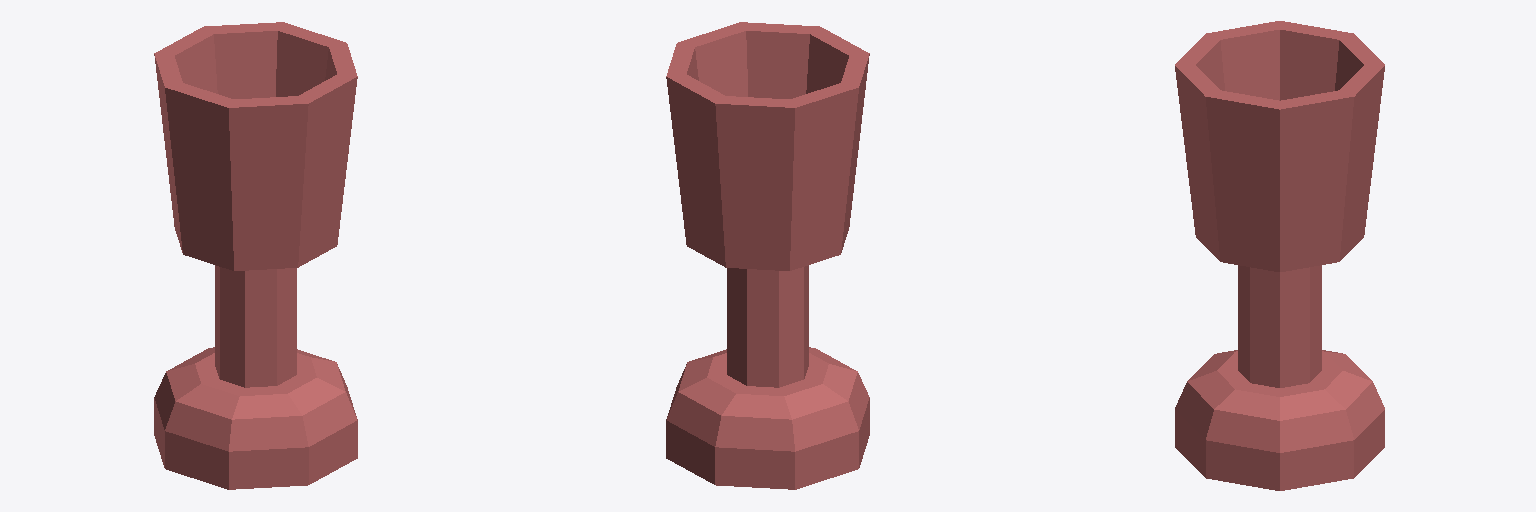
The picture shows the model from 3 angles: view 1: azimuth 30°, elevation 25°; view 2: azimuth 150°, elevation 25°; view 3: azimuth 270°, elevation 25°; orthographic projection.
Visible parts, largest first — view 1: Mesh_0035_Mesh_0035Mesh; view 2: Mesh_0035_Mesh_0035Mesh; view 3: Mesh_0035_Mesh_0035Mesh.
Part boxes in pixels (left/top/right/bottom): Mesh_0035_Mesh_0035Mesh: left=154, top=22, right=357, bottom=489; Mesh_0035_Mesh_0035Mesh: left=666, top=22, right=869, bottom=489; Mesh_0035_Mesh_0035Mesh: left=1175, top=21, right=1384, bottom=490.
Size of the model in its own units: 0.0762 by 0.1524 by 0.0762.
1 materials, 1 textured.